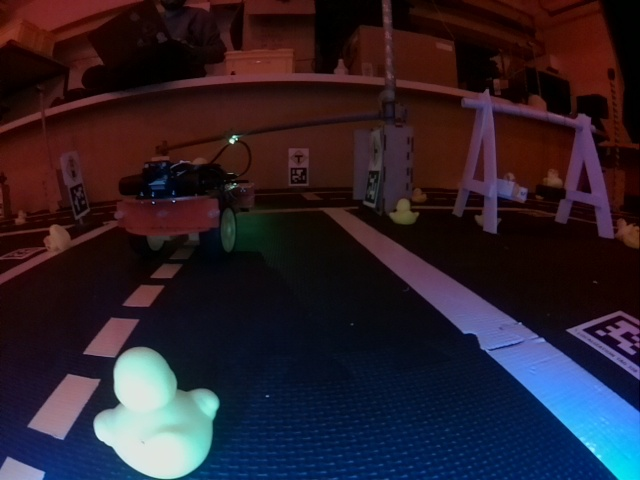Duckie: (93, 346, 218, 474), (44, 225, 72, 251), (390, 200, 418, 222)
Duckiebot: (118, 147, 253, 252)
Intersection sign: (290, 150, 308, 167)
QR code: (578, 309, 639, 376), (289, 168, 306, 186)
